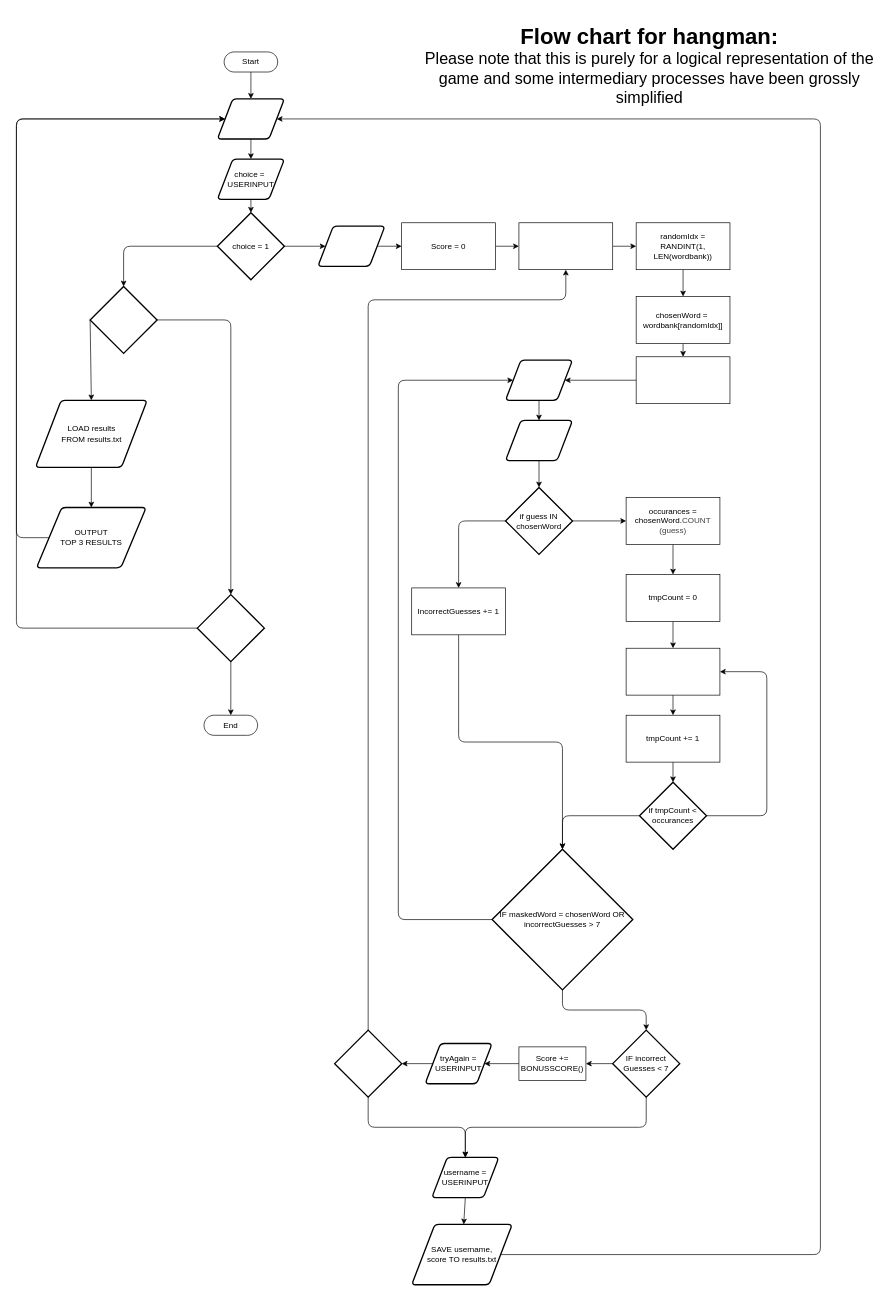
The diagram is 892 pixels wide and 1296 high, and some of its shapes have lost their labels. Here are the shapes that lost their labels. From the top down, the centre of each, then its label:
the point at 250,118: OUTPUT MAIN_MENU
the point at 351,246: LOAD wordbank.txt
the point at 565,246: IncorrectGuesses = 0
the point at 123,319: Choice = 2
the point at 539,380: OUTPUT HANGMAN SCREEN
the point at 682,380: maskedWord = "*" * LEN(chosenWord)
the point at 539,440: guess = USERINPUT
the point at 230,628: Choice = 3
the point at 672,671: Score += 5
the point at 368,1063: IF tryAgain
